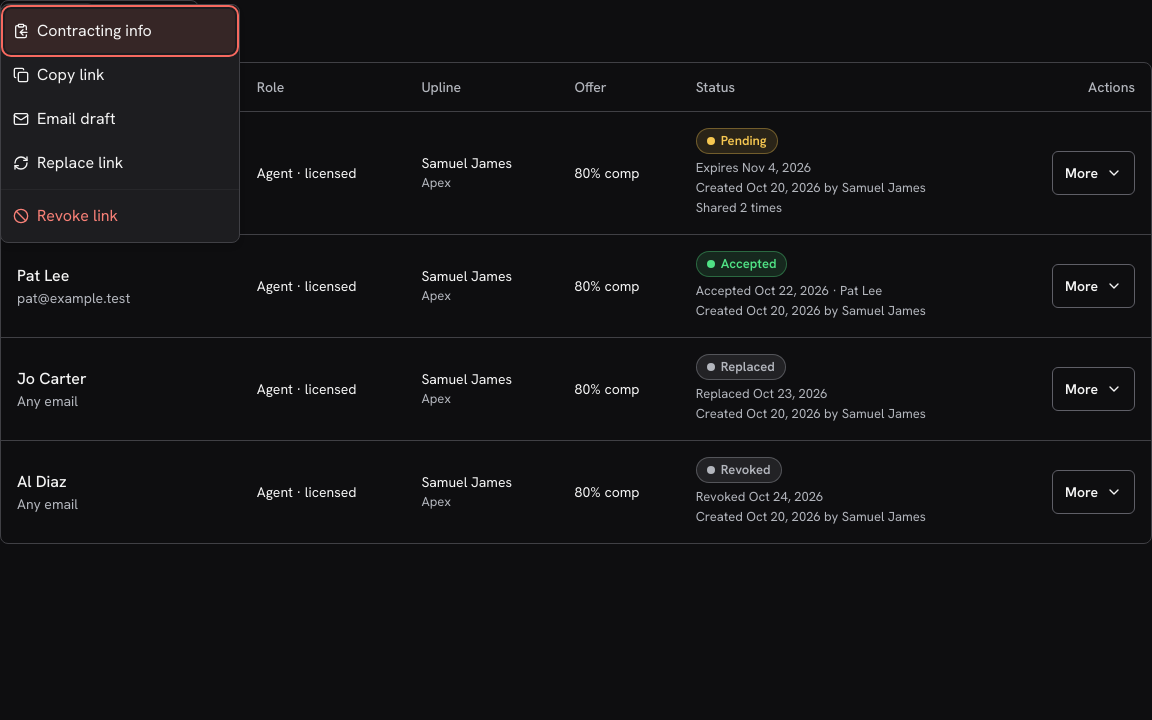
Test: InvitationsTable › opens the contracting info in a dialog with each value in full and a 44px Copy per value
The image size is (1152, 720).
Earlier steps of the test are not shown.
Later steps or results of the test are not shown.
Click the menu item "Contracting info".
click(120, 31)  # box [5,9,235,53]
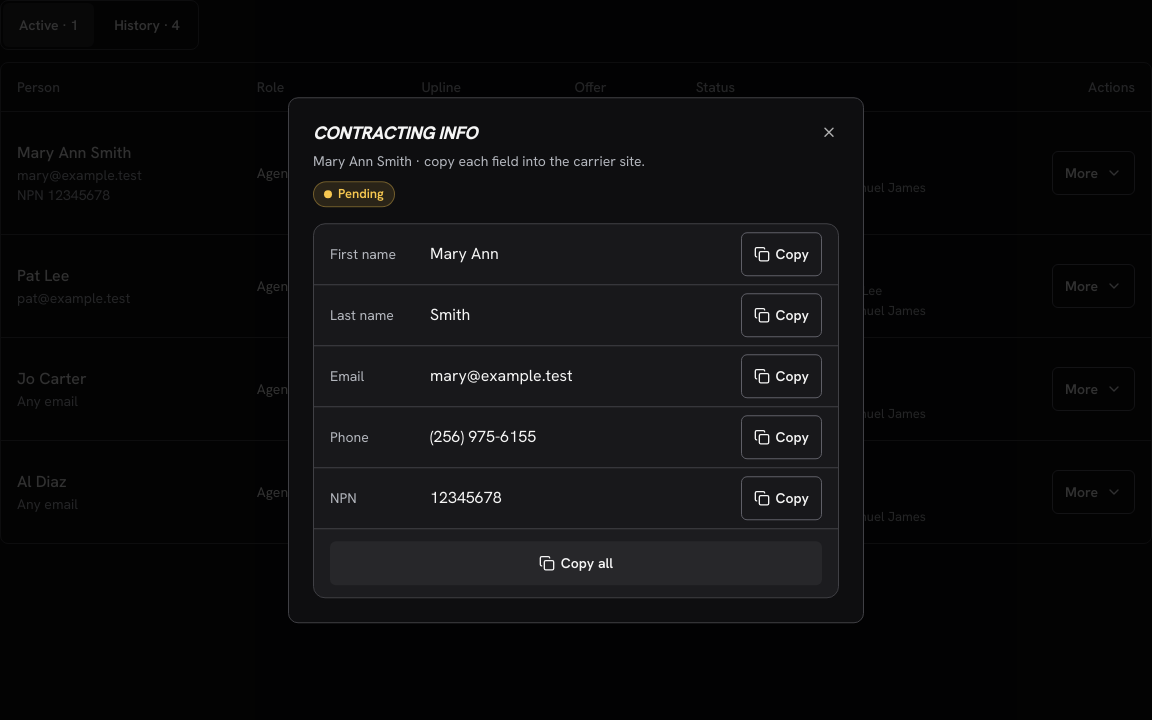
Check: the heading "Contracting info" is shown, box [313,121,477,144]
Check: the text "(256) 975-6155" is shown, box [430,426,536,447]
Check: the text "12345678" is shown, box [430,487,502,508]
